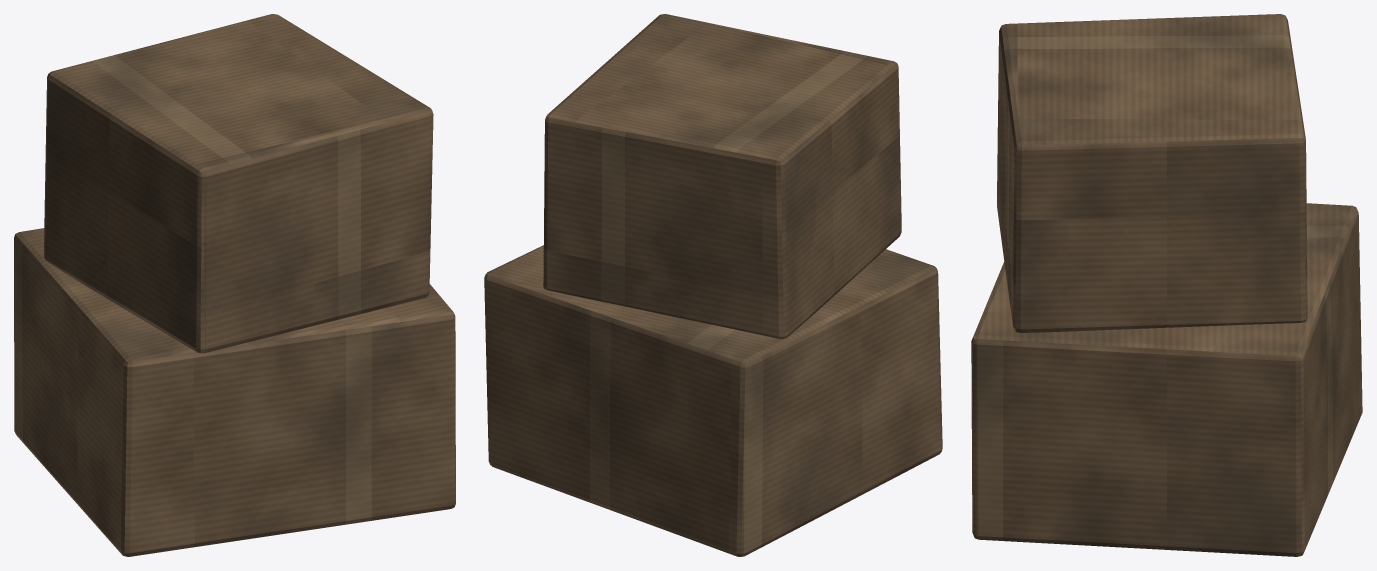
Rendered from F07_cardboard_box_stack_v1.glb.
3 renders of one model, left to right at view 1: azimuth 30°, elevation 25°; view 2: azimuth 150°, elevation 25°; view 3: azimuth 270°, elevation 25°, orthographic. The views are drawn at different scales.
Visible parts, largest first — view 1: F07_cardboard_box_stack_v1; view 2: F07_cardboard_box_stack_v1; view 3: F07_cardboard_box_stack_v1.
Boxes of the visible parts, box(x1,y1,x2,y2) form: F07_cardboard_box_stack_v1: box(14, 14, 455, 556); F07_cardboard_box_stack_v1: box(484, 14, 942, 556); F07_cardboard_box_stack_v1: box(971, 14, 1362, 556).
Bounding box in the file's own units: 0.9345 × 1 × 0.8812.
Materials: 1 (1 with a texture image).
